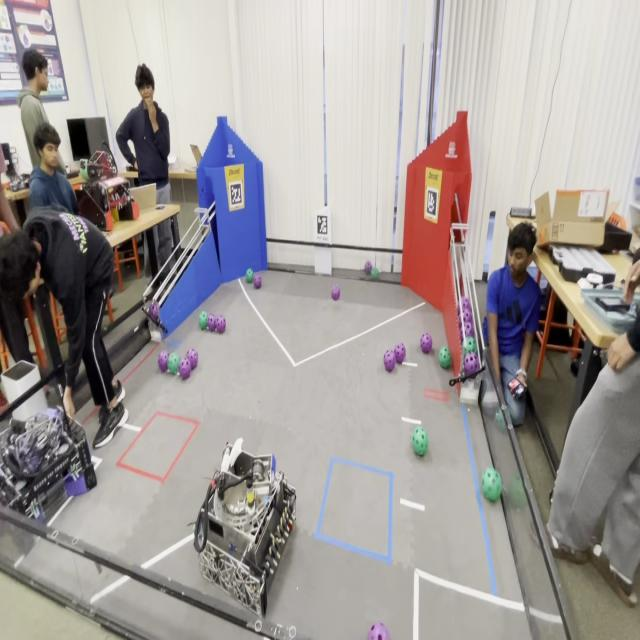artifact_green: (481, 468, 502, 502), (507, 474, 527, 508), (412, 427, 428, 456), (168, 352, 180, 375), (463, 336, 477, 355), (495, 408, 506, 431), (439, 347, 451, 368), (198, 311, 208, 331), (79, 165, 89, 182), (245, 268, 255, 284), (371, 267, 380, 280), (549, 488, 553, 506)
artifact_purple: (368, 623, 390, 639), (464, 352, 479, 375), (179, 358, 191, 379), (384, 350, 395, 372), (420, 333, 432, 353), (187, 349, 198, 370), (149, 300, 159, 322), (158, 351, 168, 372), (395, 343, 405, 364), (460, 309, 472, 323), (216, 316, 225, 334), (207, 314, 216, 332), (464, 322, 474, 337), (461, 296, 471, 311), (331, 285, 340, 301), (365, 261, 372, 275), (254, 275, 261, 288), (457, 313, 462, 328)
